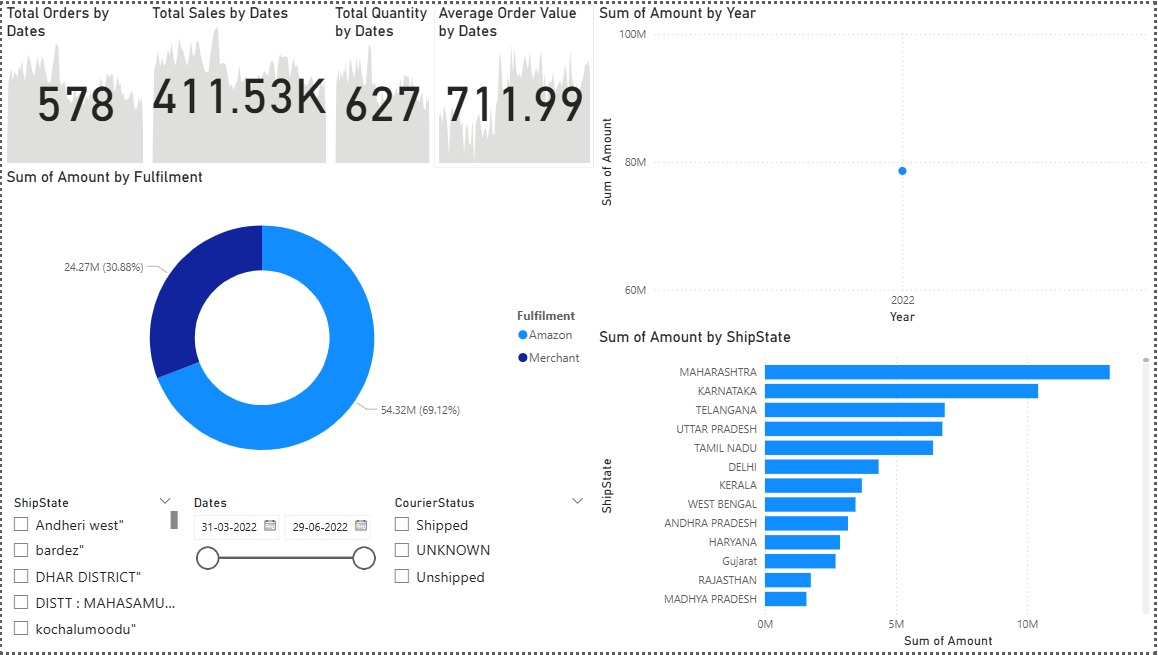

This screenshot's page, from the dashboard's own definition file:
{"tool":"powerbi","page":{"name":"Page 1","canvas":[1280,720],"ordinal":0},"visuals":[{"type":"kpi","fields":{"Indicator":["SalesData.Total Sales"],"TrendLine":["SalesData.Dates"]},"box":[161.7,0,203.3,181.7],"z":0},{"type":"kpi","fields":{"Indicator":["SalesData.Total Orders"],"TrendLine":["SalesData.Dates"]},"box":[0,0,161.7,181.7],"z":1000},{"type":"kpi","fields":{"Indicator":["SalesData.Average Order Value"],"TrendLine":["SalesData.Dates"]},"box":[480,0,178.3,181.7],"z":2000},{"type":"lineChart","fields":{"Category":["SalesData.Dates.Variation.Date Hierarchy.Year","SalesData.Dates.Variation.Date Hierarchy.Month"],"Y":["Sum(SalesData.Amount)"]},"box":[658.3,0,621.7,360],"z":3000},{"type":"kpi","fields":{"Indicator":["SalesData.Total Quantity"],"TrendLine":["SalesData.Dates"]},"box":[365,0,115,181.7],"z":4000},{"type":"clusteredBarChart","fields":{"Category":["SalesData.ShipState"],"Y":["Sum(SalesData.Amount)"]},"box":[658.3,360,621.7,360],"z":5000},{"type":"donutChart","fields":{"Y":["Sum(SalesData.Amount)"],"Category":["SalesData.Fulfilment"]},"box":[0,181.7,658.3,358.3],"z":6000},{"type":"slicer","fields":{"Values":["SalesData.ShipState"]},"box":[0,540,200,180],"z":7000},{"type":"slicer","fields":{"Values":["SalesData.Dates"]},"box":[200,540,223.3,180],"z":8000},{"type":"slicer","fields":{"Values":["SalesData.CourierStatus"]},"box":[423.3,540,235,180],"z":9000}]}

Visuals, with their boxes in screenshot pixels (x1, y1, x2, y2), scaled from the page's 1280x720 canvas onto the 1158x655 screenshot:
kpi - SalesData.Total Sales x SalesData.Dates: <box>146,0,330,165</box>
kpi - SalesData.Total Orders x SalesData.Dates: <box>0,0,146,165</box>
kpi - SalesData.Average Order Value x SalesData.Dates: <box>434,0,596,165</box>
lineChart - SalesData.Dates.Variation.Date Hierarchy.Year x SalesData.Dates.Variation.Date Hierarchy.Month: <box>596,0,1157,328</box>
kpi - SalesData.Total Quantity x SalesData.Dates: <box>330,0,434,165</box>
clusteredBarChart - SalesData.ShipState x Sum(SalesData.Amount): <box>596,328,1157,654</box>
donutChart - Sum(SalesData.Amount) x SalesData.Fulfilment: <box>0,165,596,491</box>
slicer - SalesData.ShipState: <box>0,491,181,654</box>
slicer - SalesData.Dates: <box>181,491,383,654</box>
slicer - SalesData.CourierStatus: <box>383,491,596,654</box>
